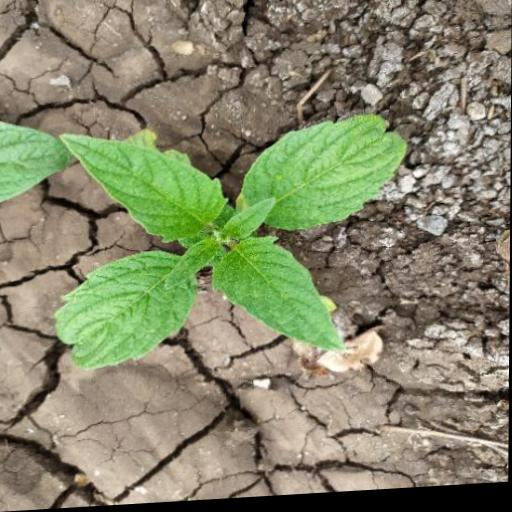crop: (64, 57, 415, 422)
